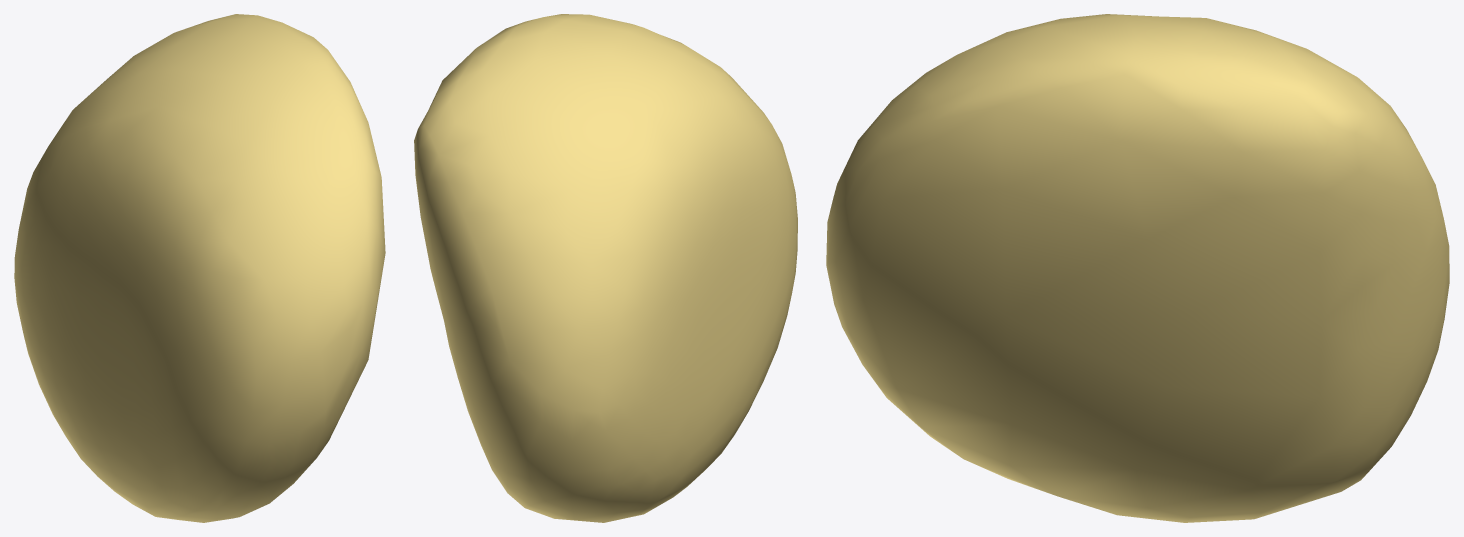
File: fma73352_mm2958.glb
The picture shows the model from 3 angles, left to right: view 1: azimuth 30°, elevation 25°; view 2: azimuth 150°, elevation 25°; view 3: azimuth 270°, elevation 25°; orthographic projection. The views are drawn at different scales.
Parts seen in each view (by area): view 1: FMA73352_MM2958; view 2: FMA73352_MM2958; view 3: FMA73352_MM2958.
Boxes of the visible parts, left/top/right/bottom form: FMA73352_MM2958: left=14, top=14, right=385, bottom=522; FMA73352_MM2958: left=414, top=14, right=797, bottom=522; FMA73352_MM2958: left=826, top=14, right=1449, bottom=522.
Bounding box in the file's own units: 0.00148 × 0.0025 × 0.00262.
